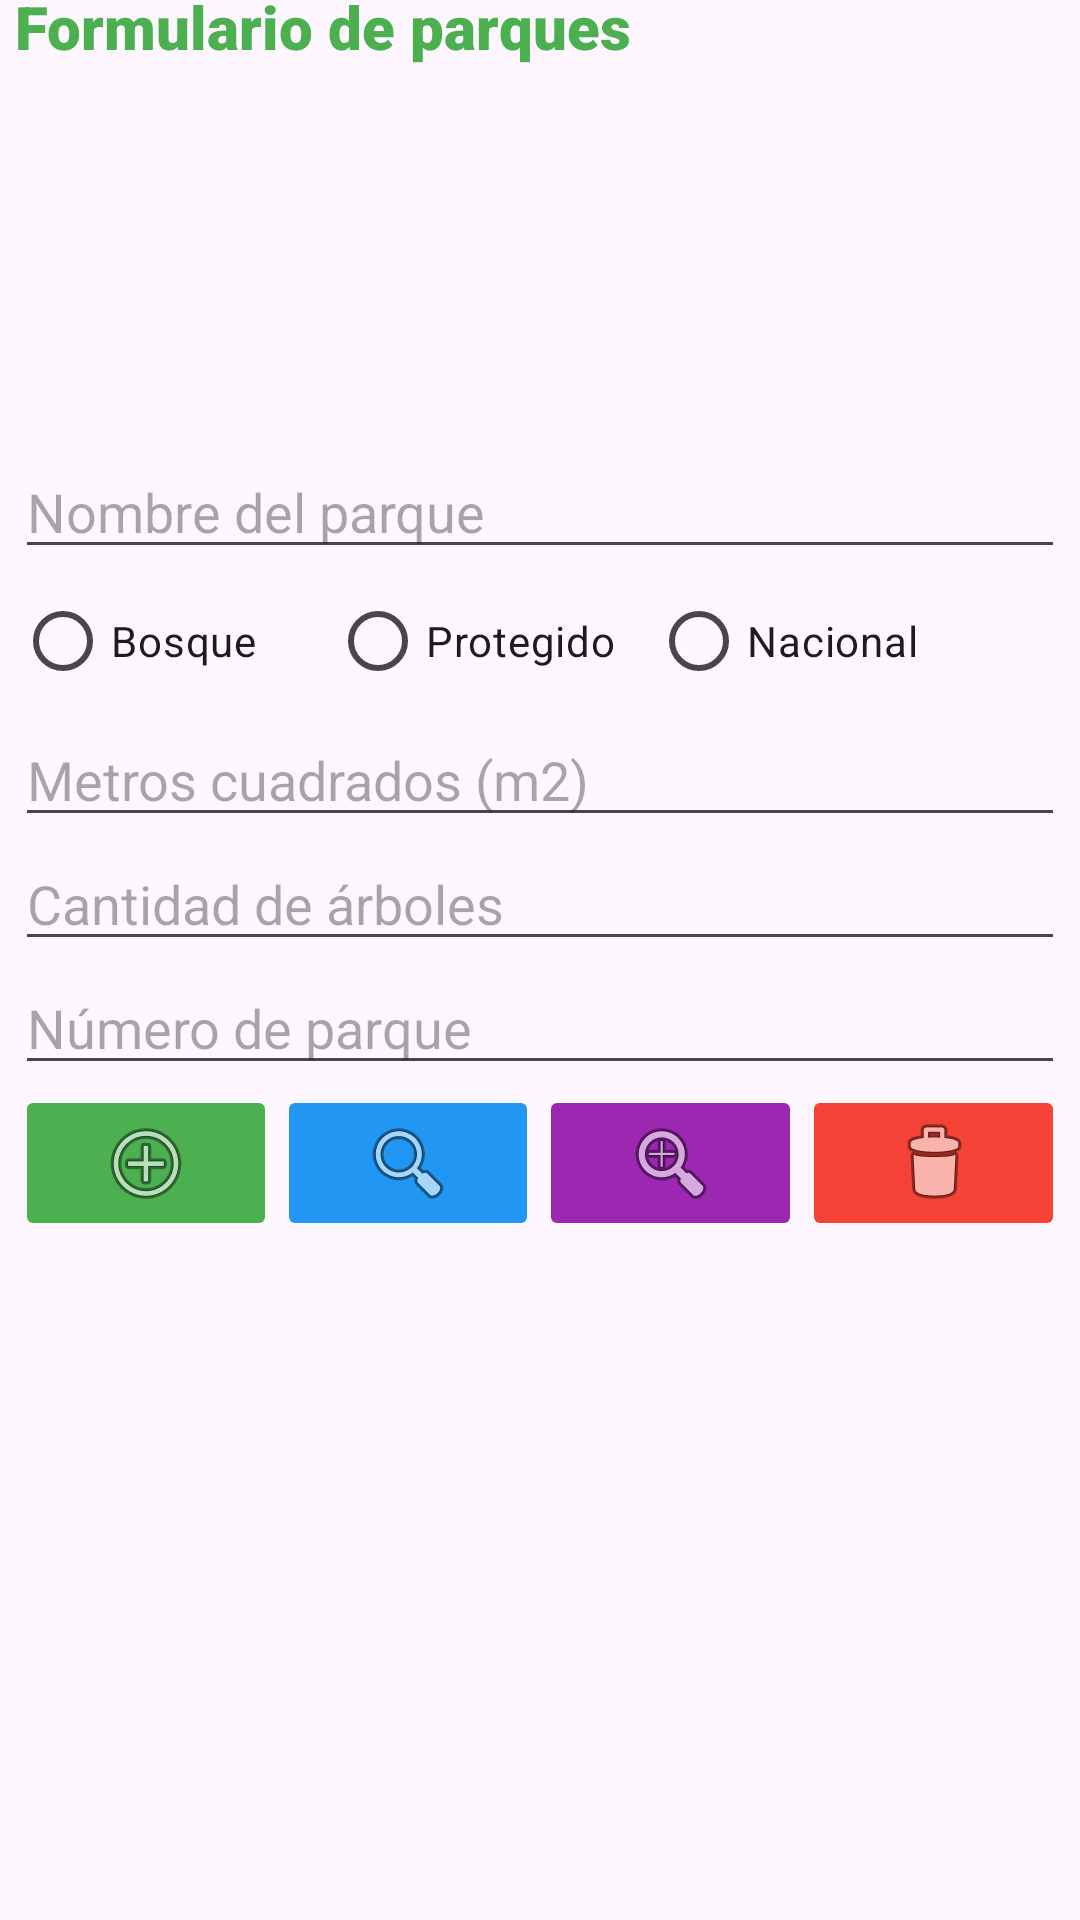

Locate icon controls on the screen. Image size 1080px×1920px, boxes as [left=x1, top=y1, right=x2, bottom=y2].
add: [left=27, top=1103, right=265, bottom=1223]
delete: [left=814, top=1103, right=1053, bottom=1223]
search: [left=289, top=1103, right=527, bottom=1223]
zoom: [left=551, top=1103, right=790, bottom=1223]
